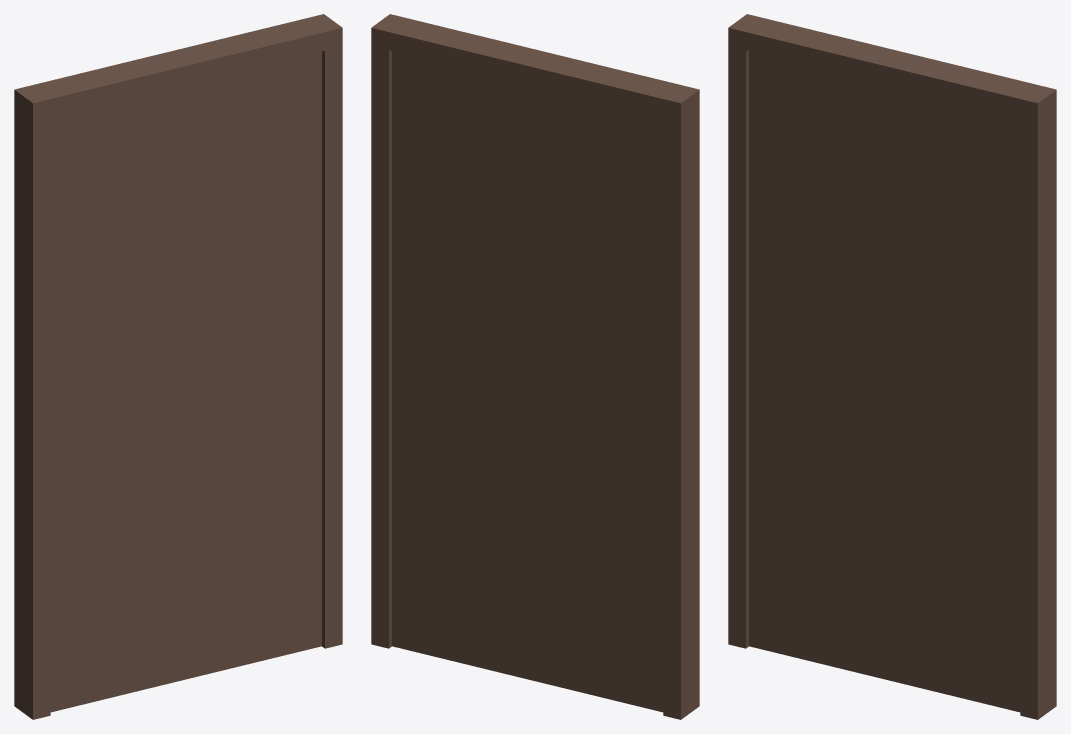
The model's file is single_door1.fbx.
3 views of the same model, side by side, from view 1: azimuth 30°, elevation 25°; view 2: azimuth 150°, elevation 25°; view 3: azimuth 330°, elevation 25° (orthographic).
Visible parts, largest first — view 1: Cube; view 2: Cube; view 3: Cube.
Part boxes in pixels (<box>): Cube: <box>14,14,342,719</box>; Cube: <box>371,14,699,719</box>; Cube: <box>728,14,1056,719</box>.
Size of the model in its own units: 99.67 by 190 by 10.5.
